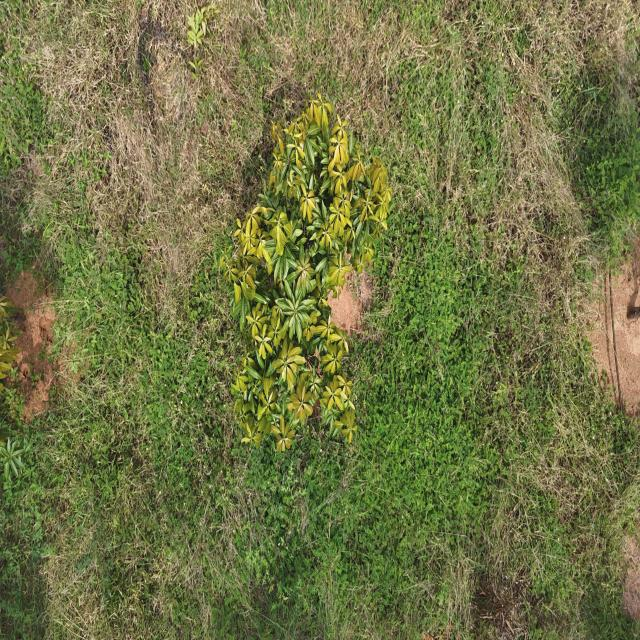mangoTree: (219, 90, 392, 452)
